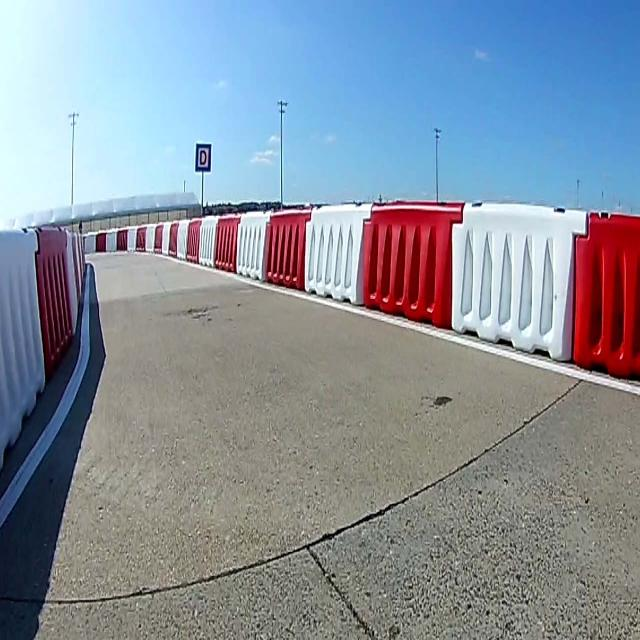durak: (195, 142, 211, 174)
